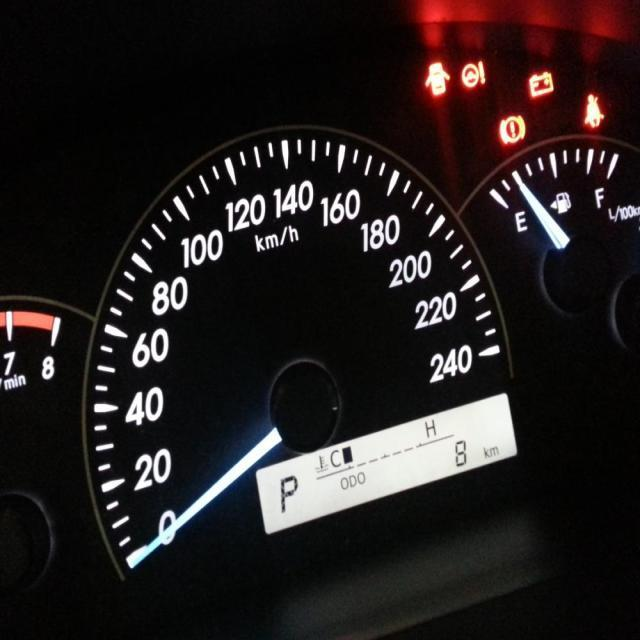Electronic Power Steering: (462, 61, 487, 88)
Seat Belt: (583, 92, 606, 130)
